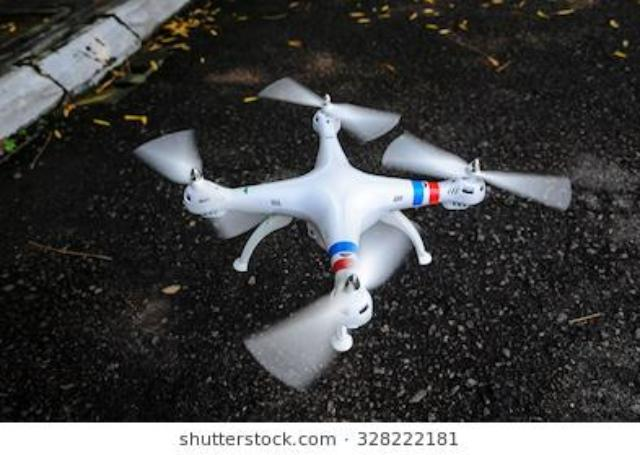drone: (0, 82, 640, 455)
